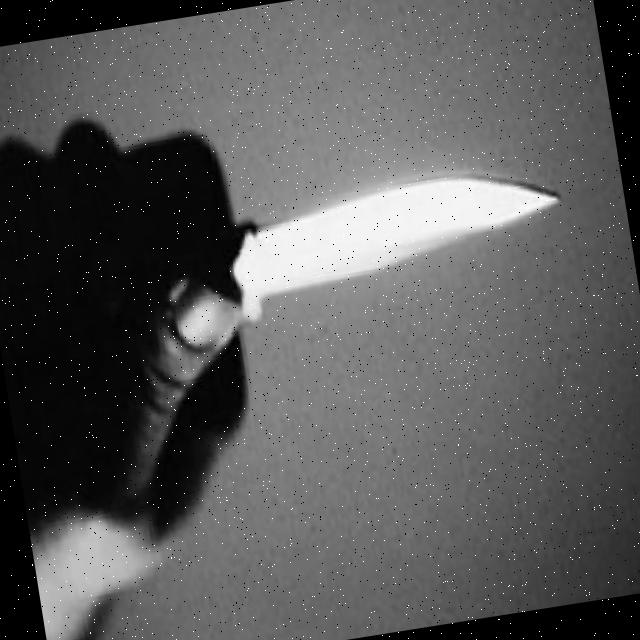Knife: (17, 121, 583, 349)
